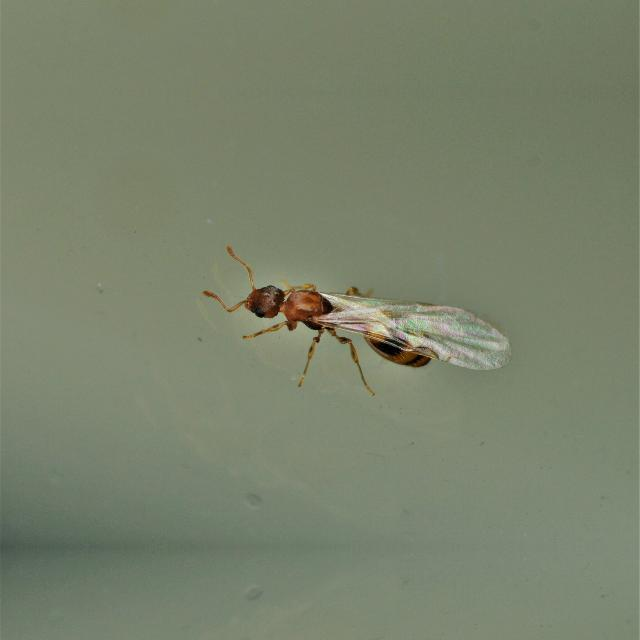Temnothorax: (198, 246, 528, 394)
